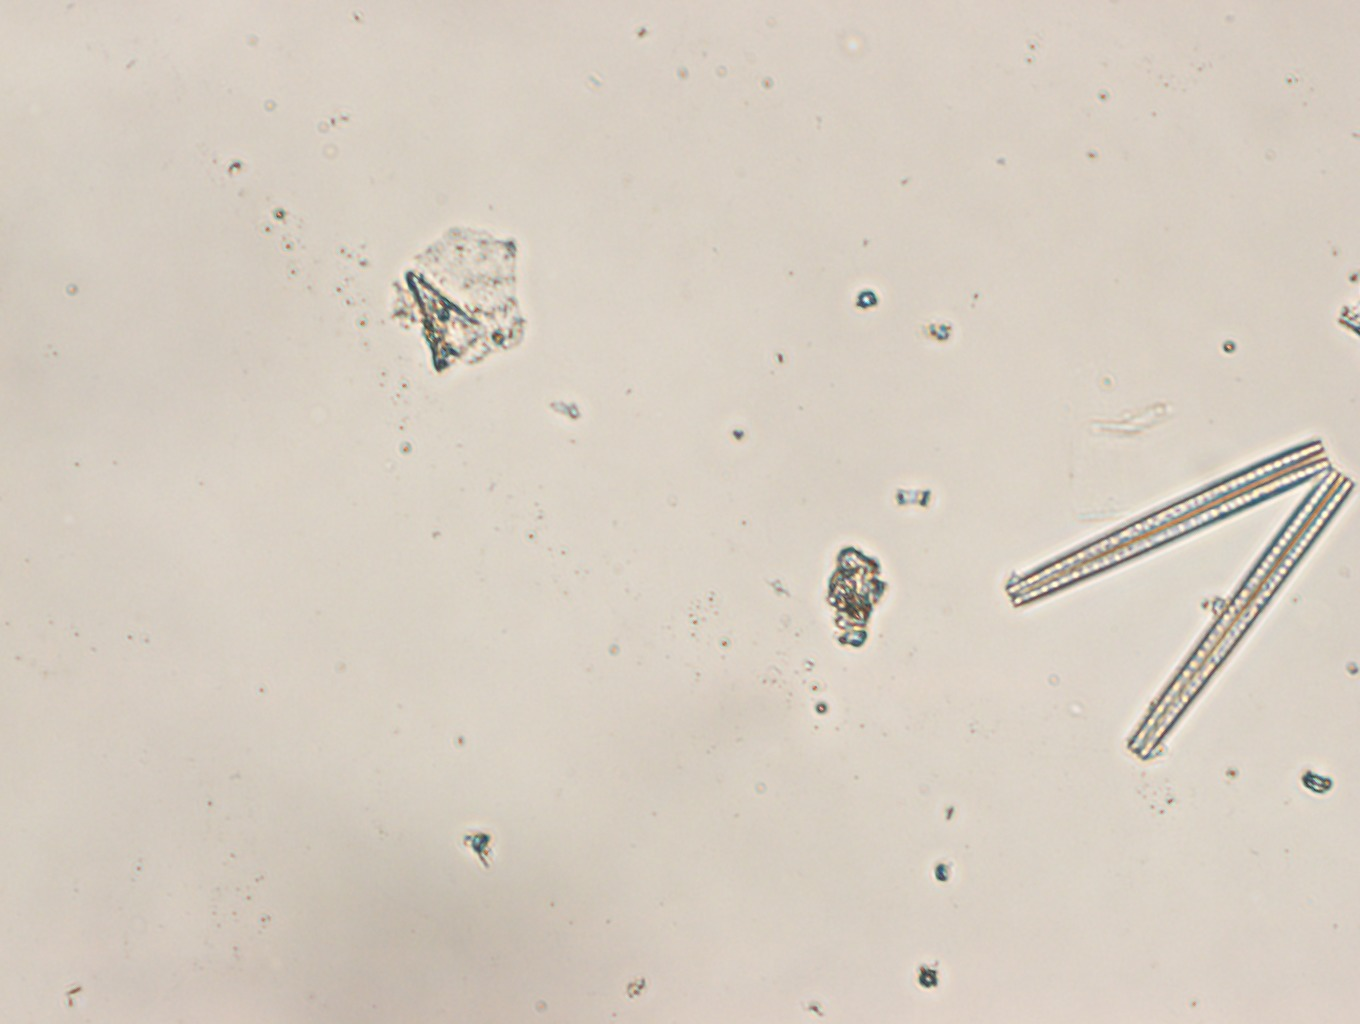thalassionema nitzschioides: (1003, 436, 1355, 760)
